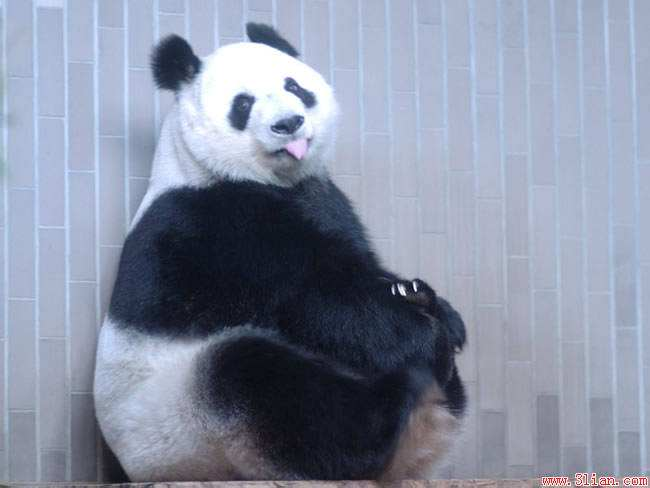panda: (86, 16, 473, 480)
